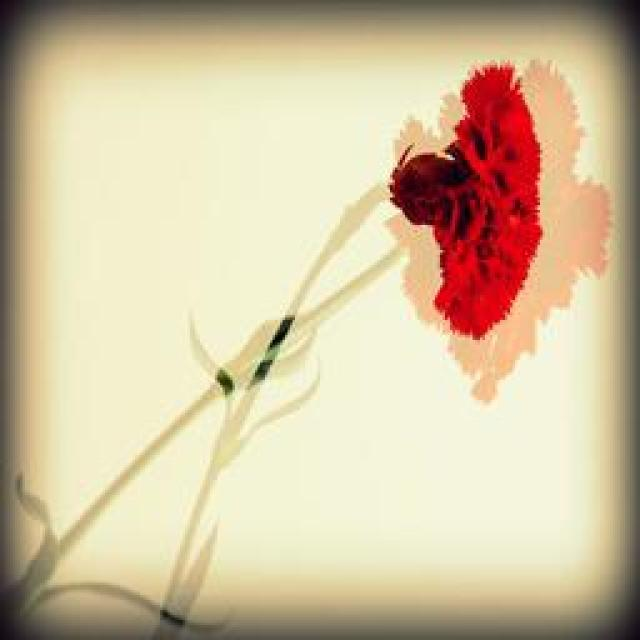carnation: (377, 48, 582, 360)
